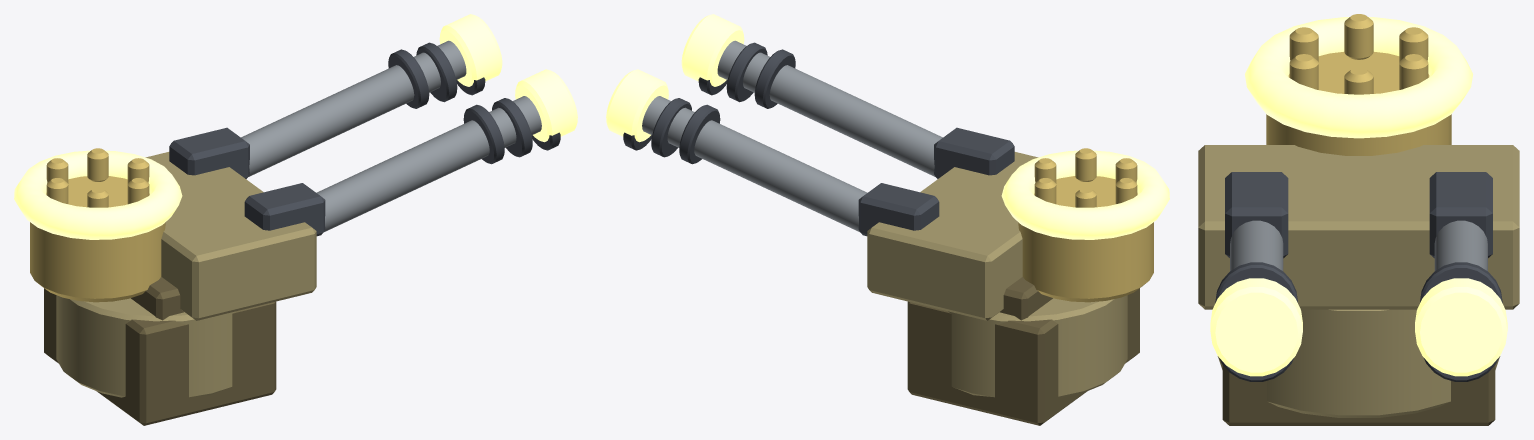
File: flak_turret_l1.glb
The picture shows the model from 3 angles, left to right: view 1: azimuth 30°, elevation 25°; view 2: azimuth 150°, elevation 25°; view 3: azimuth 270°, elevation 25°; orthographic projection. The views are drawn at different scales.
Visible parts, largest first — view 1: Cube.002, Cube, Cylinder, Cylinder.011, Cylinder.006, Cylinder.001, Torus, Cube.003, Cube.004, Cylinder.005, Cylinder.010, Cube.001 (+5 smaller); view 2: Cube.002, Cube, Cylinder, Cylinder.011, Cylinder.001, Cylinder.006, Torus, Cube.004, Cube.003, Cylinder.010, Cylinder.005, Cube.001 (+5 smaller); view 3: Cube.002, Cylinder, Torus, Cylinder.005, Cylinder.010, Cube, Cylinder.011, Cube.003, Cube.004, Cylinder.001, Cylinder.006, Cylinder.015 (+9 smaller).
Boxes of the visible parts, box(x1,y1,x2,y2) form: Cube.002: box(145, 152, 316, 320); Cube: box(44, 288, 276, 425); Cylinder: box(56, 295, 235, 397); Cylinder.011: box(30, 176, 165, 302); Cylinder.006: box(241, 40, 466, 176); Cylinder.001: box(316, 96, 541, 231); Torus: box(14, 150, 182, 239); Cube.003: box(244, 183, 325, 236); Cube.004: box(169, 127, 249, 178); Cylinder.005: box(515, 69, 577, 142); Cylinder.010: box(439, 14, 502, 86); Cube.001: box(131, 277, 183, 320); Cube.002: box(867, 152, 1038, 320); Cube: box(907, 288, 1139, 425); Cylinder: box(948, 295, 1127, 397); Cylinder.011: box(1018, 176, 1153, 302); Cylinder.001: box(717, 40, 942, 176); Cylinder.006: box(642, 96, 867, 231); Torus: box(1001, 150, 1169, 239); Cube.004: box(858, 183, 939, 236); Cube.003: box(934, 127, 1014, 178); Cylinder.010: box(606, 69, 668, 142); Cylinder.005: box(681, 14, 744, 86); Cube.001: box(1000, 277, 1052, 320); Cube.002: box(1198, 145, 1519, 309); Cylinder: box(1217, 309, 1500, 417); Torus: box(1245, 17, 1472, 138); Cylinder.005: box(1210, 278, 1302, 376); Cylinder.010: box(1415, 278, 1507, 376); Cube: box(1222, 365, 1495, 425); Cylinder.011: box(1266, 52, 1451, 155); Cube.003: box(1225, 172, 1288, 258); Cube.004: box(1429, 172, 1492, 258); Cylinder.001: box(1230, 220, 1283, 271); Cylinder.006: box(1434, 220, 1487, 271); Cylinder.015: box(1344, 14, 1373, 59).
Bounding box in the file's own units: 1.62 × 0.7503 × 0.66.
